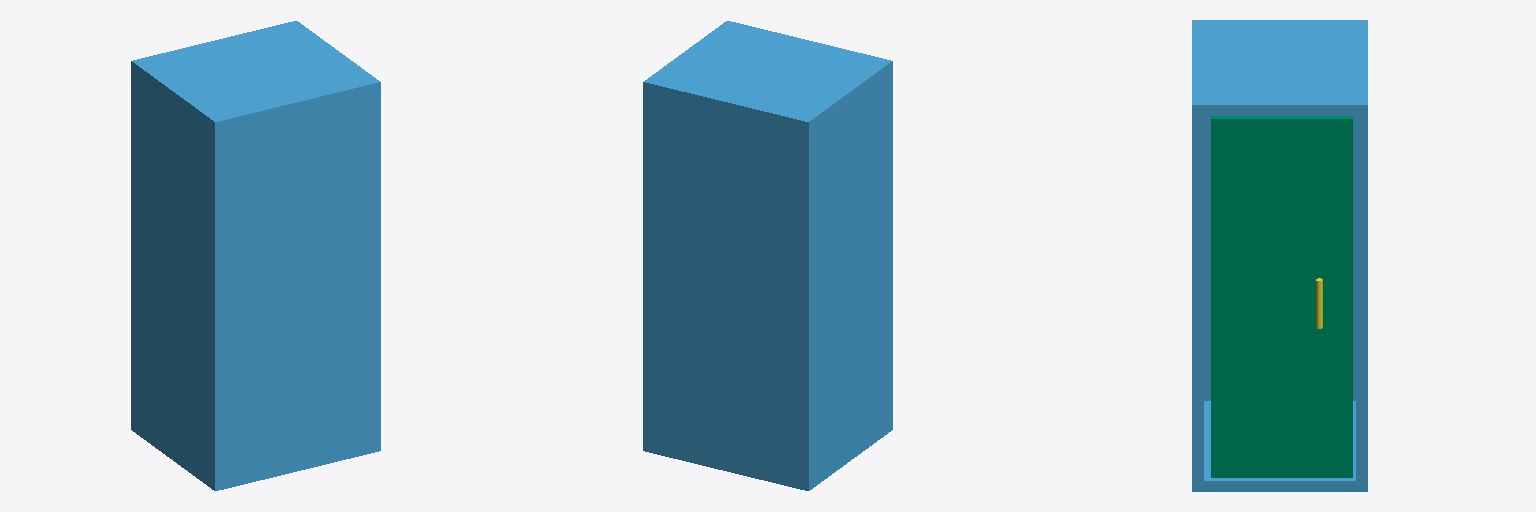
robot.urdf — my_cabinet:
<?xml version="1.0" ?>
<robot name="my_cabinet">
	<link name="world"/>
	<joint name="virtual_joint" type="fixed">
		<parent link="world"/>
		<child link="base_cabinet_link"/>
		<origin xyz="0.0 0.0 0.0" rpy="0.0 0.0 0.0"/>
	</joint>
	<link name="base_cabinet_link">
		<visual>
			<origin xyz="0.0 -0.0025 -0.31083835623912937" rpy="0.0 0.0 0.0"/>
			<geometry>
				<box size="0.3 0.26368902296271696 0.018"/>
			</geometry>
		</visual>
		<collision name="base_cabinet_link_collision_0">
			<origin xyz="0.0 -0.0025 -0.31083835623912937" rpy="0.0 0.0 0.0"/>
			<geometry>
				<box size="0.3 0.26368902296271696 0.018"/>
			</geometry>
		</collision>
		<visual>
			<origin xyz="0.0 0.12034451148135848 0.0" rpy="0.0 0.0 0.0"/>
			<geometry>
				<box size="0.3 0.018 0.6396767124782587"/>
			</geometry>
		</visual>
		<collision name="base_cabinet_link_collision_1">
			<origin xyz="0.0 0.12034451148135848 0.0" rpy="0.0 0.0 0.0"/>
			<geometry>
				<box size="0.3 0.018 0.6396767124782587"/>
			</geometry>
		</collision>
		<visual>
			<origin xyz="0.0 -0.12534451148135847 0.0" rpy="0.0 0.0 0.0"/>
			<geometry>
				<box size="0.3 0.018 0.6396767124782587"/>
			</geometry>
		</visual>
		<collision name="base_cabinet_link_collision_2">
			<origin xyz="0.0 -0.12534451148135847 0.0" rpy="0.0 0.0 0.0"/>
			<geometry>
				<box size="0.3 0.018 0.6396767124782587"/>
			</geometry>
		</collision>
		<visual>
			<origin xyz="0.0 -0.0025 0.31083835623912937" rpy="0.0 0.0 0.0"/>
			<geometry>
				<box size="0.3 0.26368902296271696 0.018"/>
			</geometry>
		</visual>
		<collision name="base_cabinet_link_collision_3">
			<origin xyz="0.0 -0.0025 0.31083835623912937" rpy="0.0 0.0 0.0"/>
			<geometry>
				<box size="0.3 0.26368902296271696 0.018"/>
			</geometry>
		</collision>
		<visual>
			<origin xyz="-0.141 -0.0025 0.0" rpy="0.0 0.0 0.0"/>
			<geometry>
				<box size="0.018 0.26368902296271696 0.6396767124782587"/>
			</geometry>
		</visual>
		<collision name="base_cabinet_link_collision_4">
			<origin xyz="-0.141 -0.0025 0.0" rpy="0.0 0.0 0.0"/>
			<geometry>
				<box size="0.018 0.26368902296271696 0.6396767124782587"/>
			</geometry>
		</collision>
		<inertial>
			<mass value="0.200000"/>
			<inertia ixx="0.007979" ixy="0.0" ixz="0.0" iyy="0.008320" iyz="0.0" izz="0.002659"/>
		</inertial>
	</link>
	<link name="door_link">
		<visual>
			<origin xyz="0.0 -0.10634451148135848 0.0"/>
			<geometry>
				<box size="0.018 0.21268902296271697 0.5936767124782587"/>
			</geometry>
		</visual>
		<collision name="door_link_collision">
			<origin xyz="0.0 -0.10634451148135848 0.0"/>
			<geometry>
				<box size="0.018 0.21268902296271697 0.5936767124782587"/>
			</geometry>
		</collision>
		<inertial>
			<mass value="0.200000"/>
			<inertia ixx="0.006628" ixy="0.0" ixz="0.0" iyy="0.005880" iyz="0.0" izz="0.000759"/>
		</inertial>
	</link>
	<joint name="door_joint" type="revolute">
		<origin xyz="0.141 -0.10634451148135848 0.0" rpy="0.000000 -0.000000 3.141593"/>
		<axis xyz="0 0 1"/>
		<parent link="base_cabinet_link"/>
		<child link="door_link"/>
		<limit effort="50" lower="-1.658062789394613" upper="0" velocity="10"/>
		<dynamics friction="3.5" damping="3.5"/>
	</joint>
	<link name="handle_link">
		<visual>
			<origin xyz="0.0 0.0 0.0" rpy="0.0 0.0 0.0"/>
			<geometry>
				<cylinder length="0.08" radius="0.005"/>
			</geometry>
		</visual>
		<collision name="handle_link_collision_0">
			<origin xyz="0.0 0.0 0.0" rpy="0.0 0.0 0.0"/>
			<geometry>
				<cylinder length="0.08" radius="0.005"/>
			</geometry>
		</collision>
		<visual>
			<origin xyz="-0.01 0.0 0.02" rpy="0.0 1.5707963267948966 0.0"/>
			<geometry>
				<cylinder length="0.02" radius="0.003"/>
			</geometry>
		</visual>
		<collision name="handle_link_collision_1">
			<origin xyz="-0.01 0.0 0.02" rpy="0.0 1.5707963267948966 0.0"/>
			<geometry>
				<cylinder length="0.01" radius="0.003"/>
			</geometry>
		</collision>
		<visual>
			<origin xyz="-0.01 0.0 -0.02" rpy="0.0 1.5707963267948966 0.0"/>
			<geometry>
				<cylinder length="0.02" radius="0.003"/>
			</geometry>
		</visual>
		<collision name="handle_link_collision_2">
			<origin xyz="-0.01 0.0 -0.02" rpy="0.0 1.5707963267948966 0.0"/>
			<geometry>
				<cylinder length="0.02" radius="0.003"/>
			</geometry>
		</collision>
		<inertial>
			<mass value="0.050000"/>
			<inertia ixx="0.000027" ixy="0.0" ixz="0.0" iyy="0.000029" iyz="0.0" izz="0.000003"/>
		</inertial>
	</link>
	<joint name="handle_joint" type="fixed">
		<origin xyz="-0.028999999999999998 -0.16268902296271698 0.0" rpy="0.000000 -0.000000 3.141593"/>
		<parent link="door_link"/>
		<child link="handle_link"/>
	</joint>
	<gazebo reference="base_cabinet_link">
		<sensor name="main_sensor" type="contact">
			<selfCollide>true</selfCollide>
			<alwaysOn>true</alwaysOn>
			<updateRate>5.0</updateRate>
			<material>Gazebo/Red</material>
			<contact>
				<collision>base_cabinet_link_collision_0_collision</collision>
				<collision>base_cabinet_link_collision_1_collision</collision>
				<collision>base_cabinet_link_collision_2_collision</collision>
				<collision>base_cabinet_link_collision_3_collision</collision>
				<collision>base_cabinet_link_collision_4_collision</collision>
			</contact>
			<plugin name="gazebo_ros_bumper_controller" filename="libgazebo_ros_bumper.so">
				<bumperTopicName>/contact</bumperTopicName>
				<frameName>world</frameName>
			</plugin>
		</sensor>
	</gazebo>
	<gazebo reference="door_link">
		<sensor name="main_sensor" type="contact">
			<selfCollide>true</selfCollide>
			<alwaysOn>true</alwaysOn>
			<updateRate>5.0</updateRate>
			<material>Gazebo/Red</material>
			<contact>
				<collision>door_link_collision_collision</collision>
			</contact>
			<plugin name="gazebo_ros_bumper_controller" filename="libgazebo_ros_bumper.so">
				<bumperTopicName>/contact_door</bumperTopicName>
				<frameName>contact_door</frameName>
			</plugin>
		</sensor>
	</gazebo>
	<gazebo reference="door_link">
		<mu>3.0</mu>
		<mu2>3.0</mu2>
		<kp>10000000</kp>
		<kd>100</kd>
	</gazebo>
</robot>

--- What the picture shows (computed from the rendered views, not written in the file) ---
3 views of the same robot in one strip: view 1: azimuth 30°, elevation 25°; view 2: azimuth 150°, elevation 25°; view 3: azimuth 270°, elevation 25° (orthographic).
Model my_cabinet with 4 links and 3 joints (1 revolute, 2 fixed), rooted at world, posed all joints at 0.
Visible links, largest first — view 1: base_cabinet_link; view 2: base_cabinet_link; view 3: door_link, base_cabinet_link.
Boxes of the visible links, box(x1,y1,x2,y2) form: base_cabinet_link: box(131, 21, 380, 490); base_cabinet_link: box(643, 21, 892, 490); door_link: box(1211, 116, 1352, 477); base_cabinet_link: box(1192, 20, 1367, 491).
Bounding box of the posed robot: 0.325 × 0.2637 × 0.6397 m (x, y, z).
Geometry: primitives only (box / cylinder / sphere), no mesh files.
